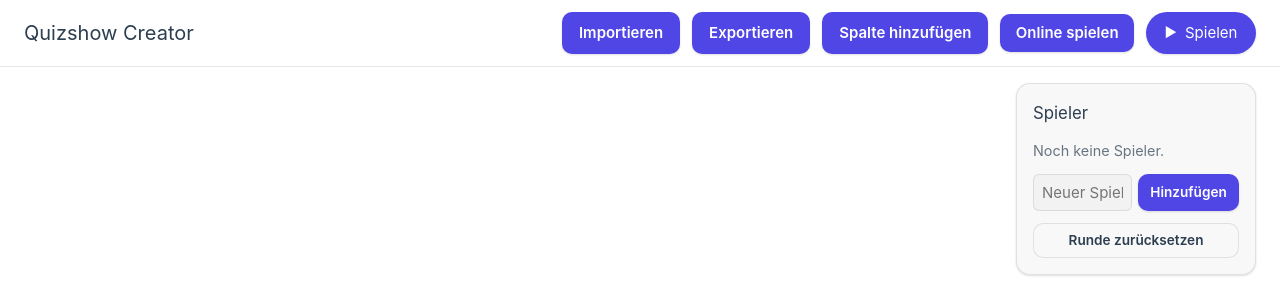
App › switches between edit and play mode
Click the switch with class "mode-toggle": [1201, 33] box [1146,12,1256,54]
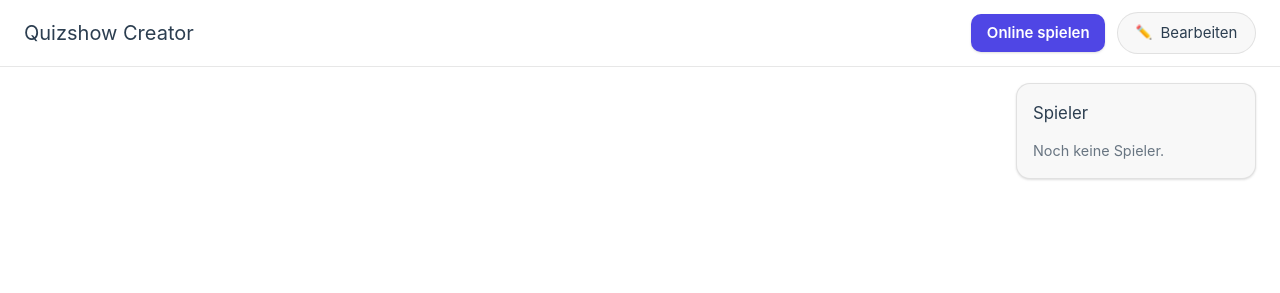
Check: the switch with class "mode-toggle" shows "Bearbeiten", box [1117,12,1256,54]
